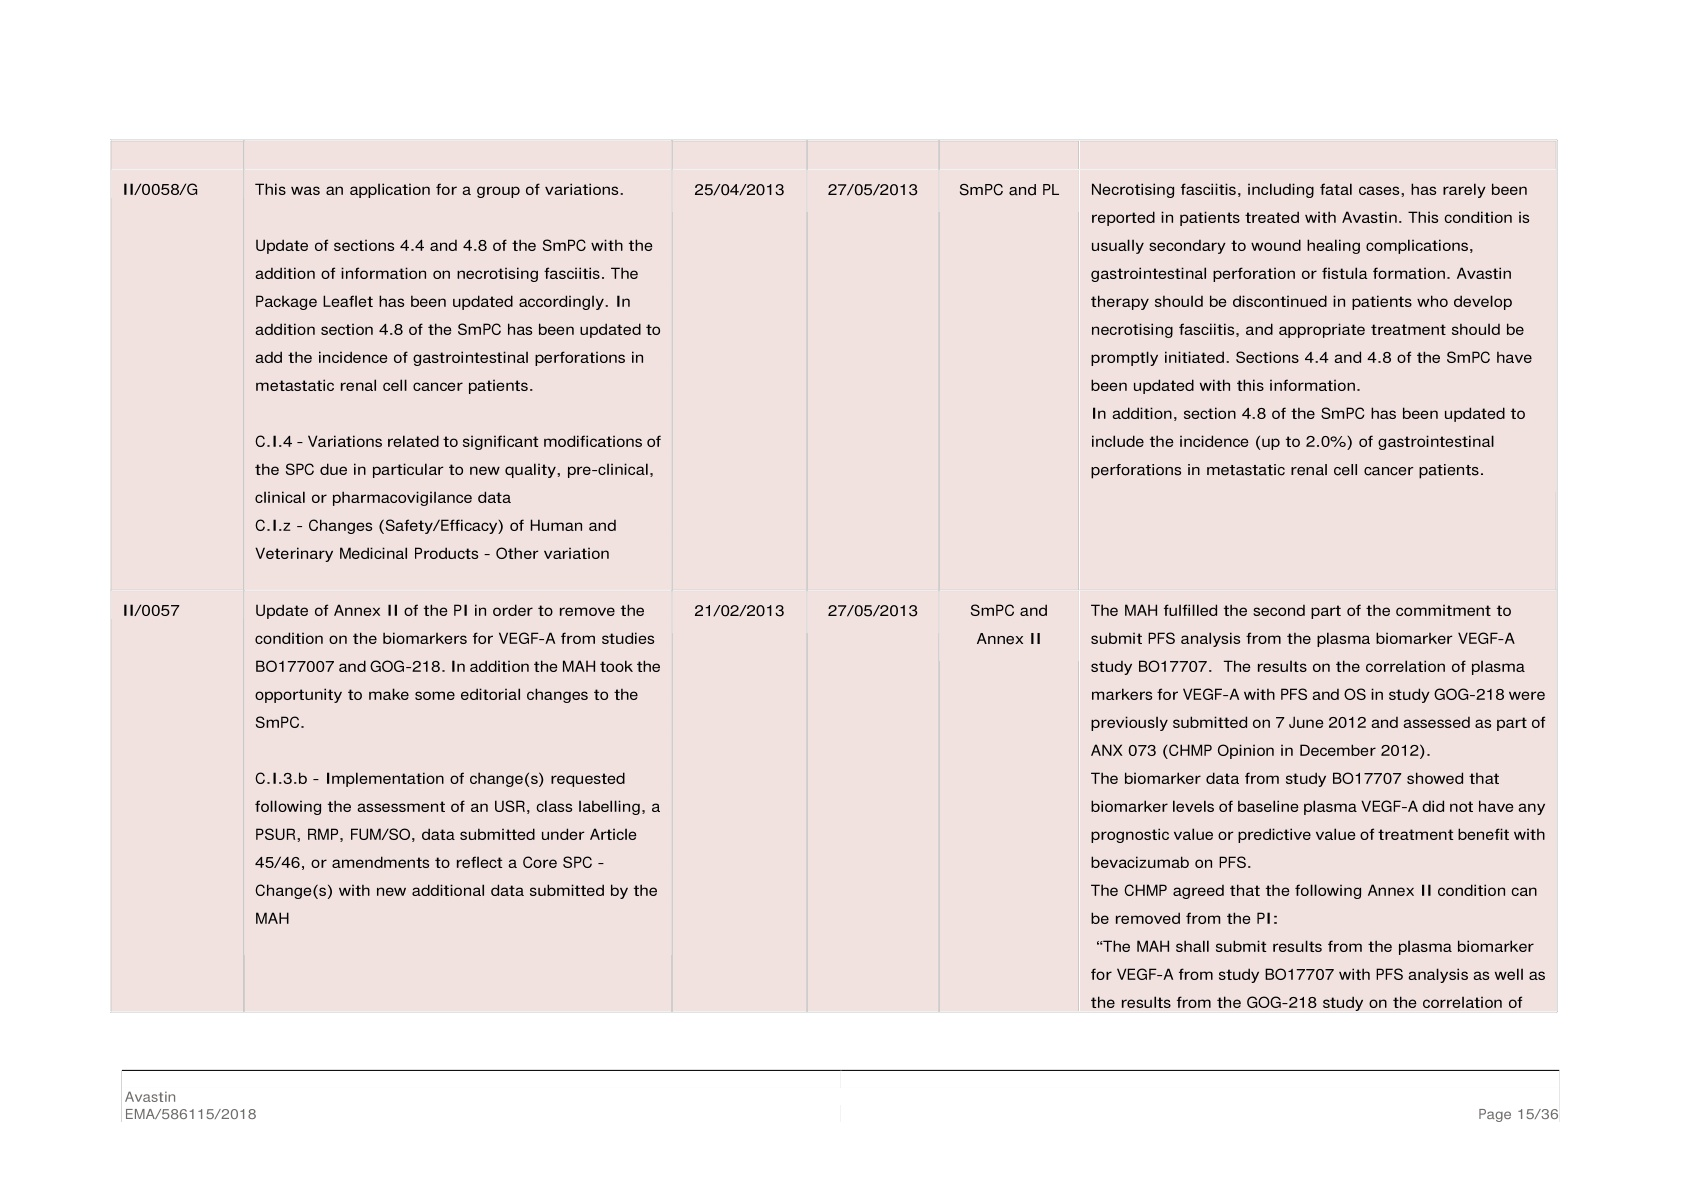full_lined: (108, 137, 1558, 1015)
